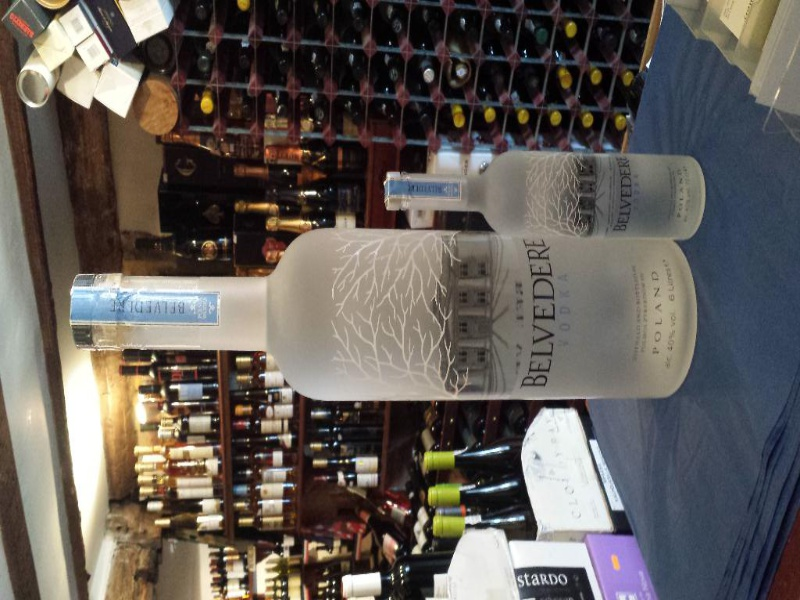wine: (64, 225, 697, 401), (44, 398, 648, 578), (61, 1, 670, 150), (365, 148, 715, 243)
